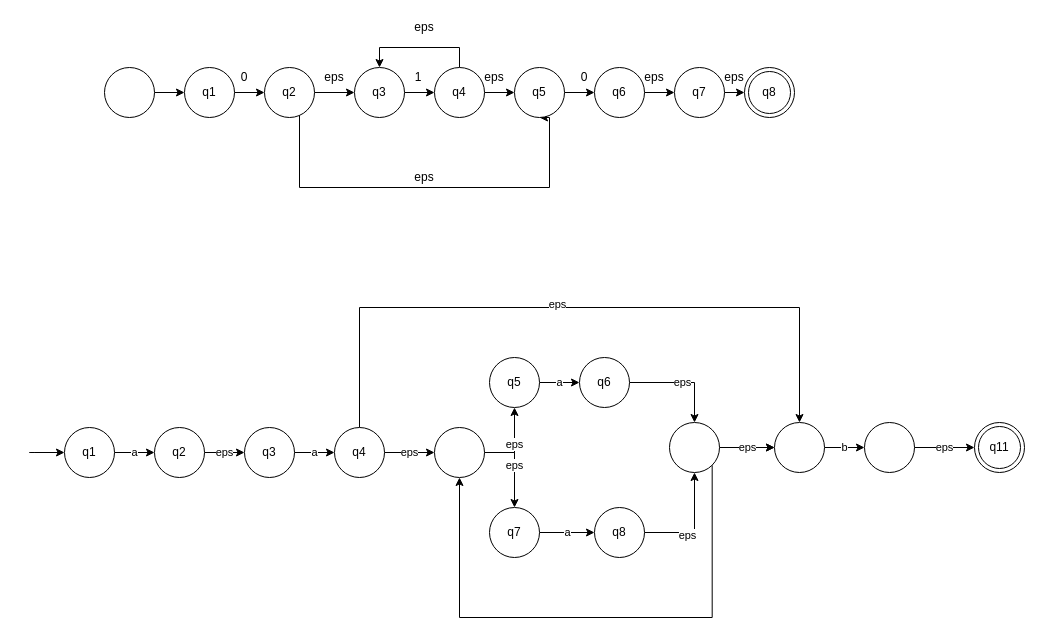
This 1042x643 diagram has some shape labels left out. Each missing label, with the box of its shape:
q0: (104, 66, 154, 118)
q10: (864, 422, 914, 472)
q41: (434, 426, 484, 478)
q9: (668, 422, 720, 472)
q91: (774, 422, 824, 472)
